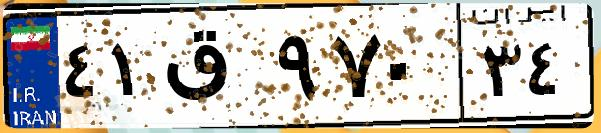0: (385, 28, 445, 110)
1: (110, 28, 158, 98)
3: (475, 38, 525, 113)
4: (57, 26, 110, 100), (525, 38, 570, 115)
7: (330, 28, 385, 110)
9: (270, 28, 330, 110)
ق: (158, 20, 270, 120)
